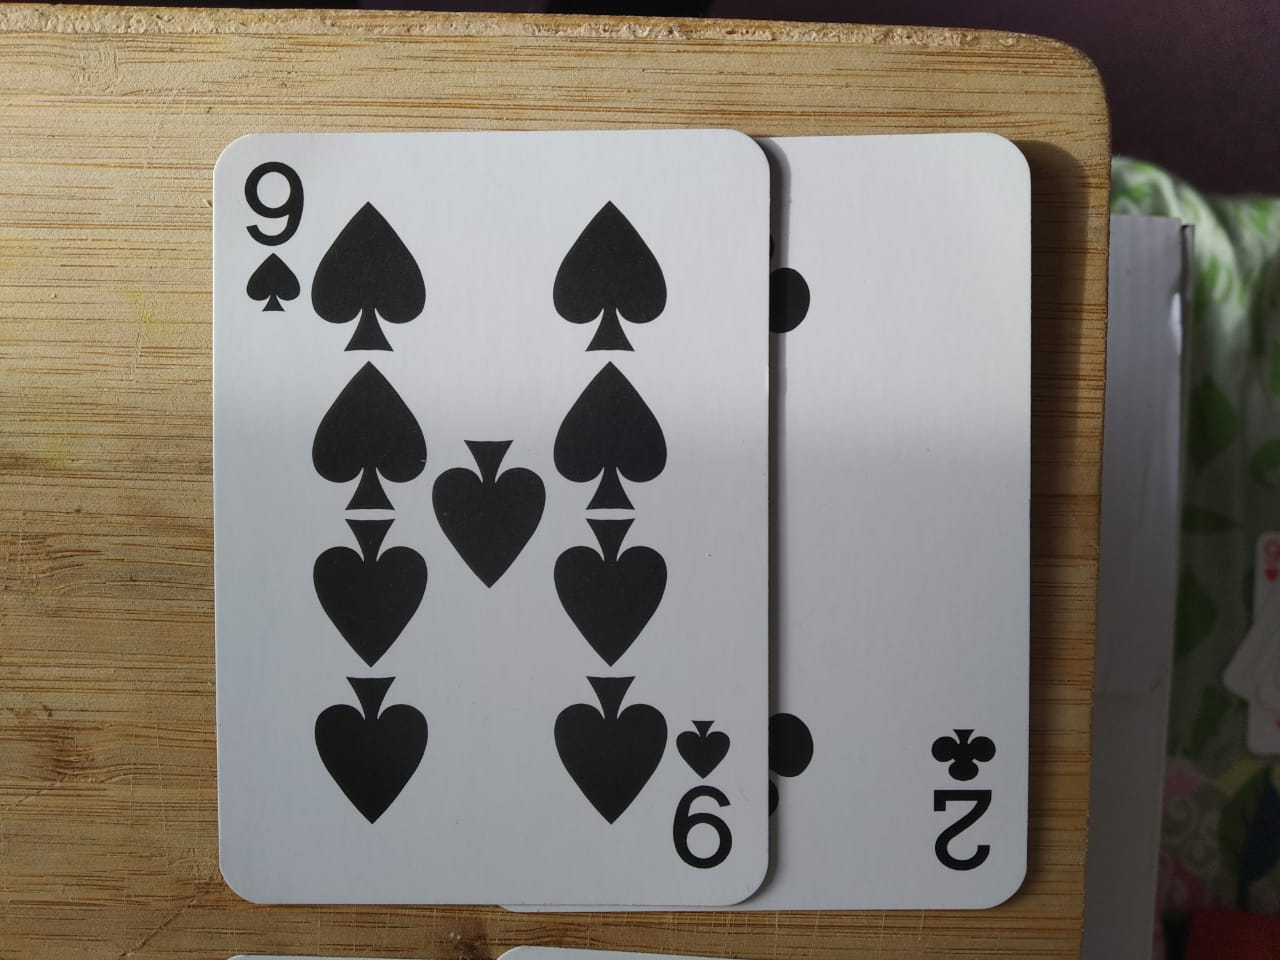nine: (199, 111, 785, 914)
